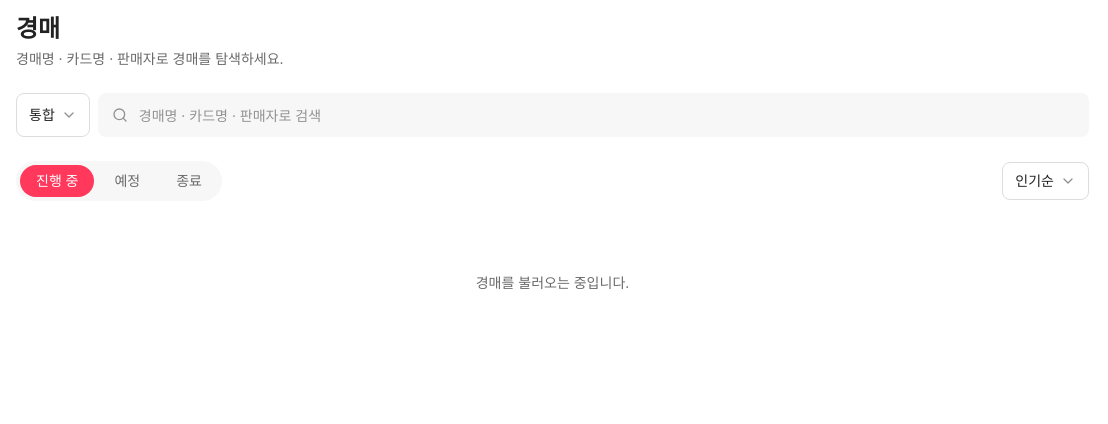
Test case: 경매 목록 라우트 › 고른 정렬이 새 탭에서 빠지면 인기순으로 되돌리고 다시 조회한다
The image size is (1108, 424).
Step 1. Press Enter in the button "인기순", box left=1002, top=162, right=1089, bottom=200
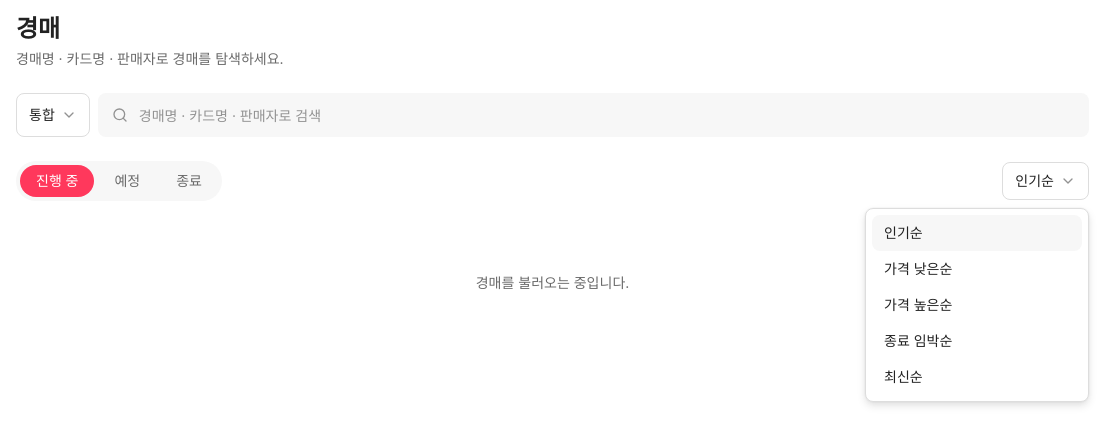
Step 2. Click the menu item "종료 임박순" → (918, 340), box left=884, top=332, right=952, bottom=349
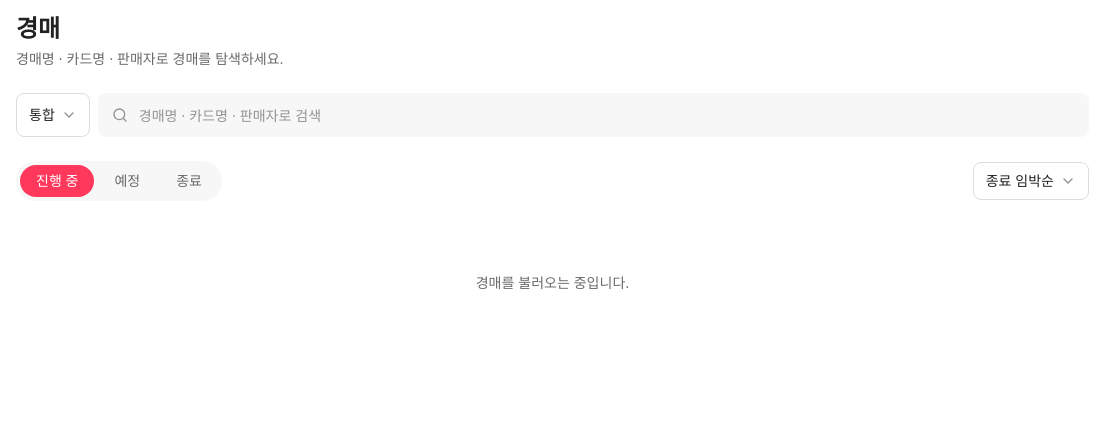
Step 3. Press the mouse on the tab "종료" → (189, 181), box left=160, top=165, right=218, bottom=197
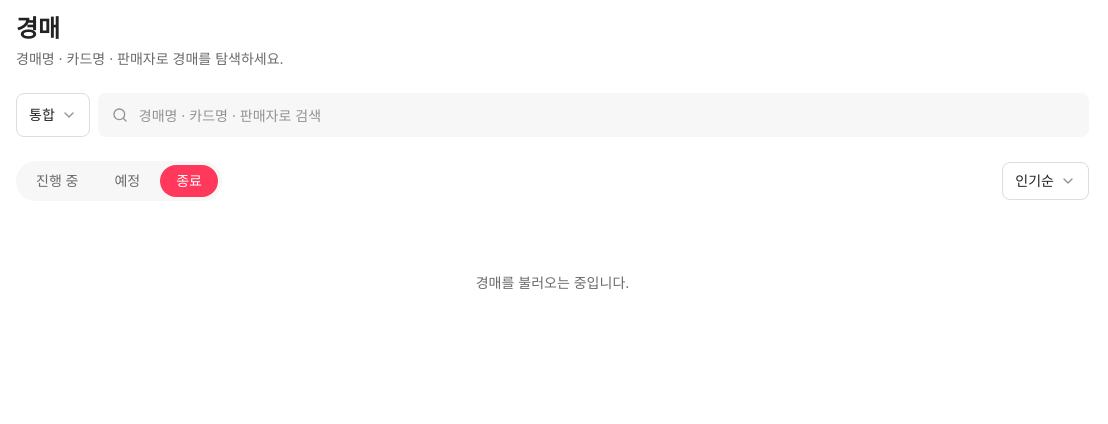
Expected: the button "인기순" is shown, left=1002, top=162, right=1089, bottom=200
